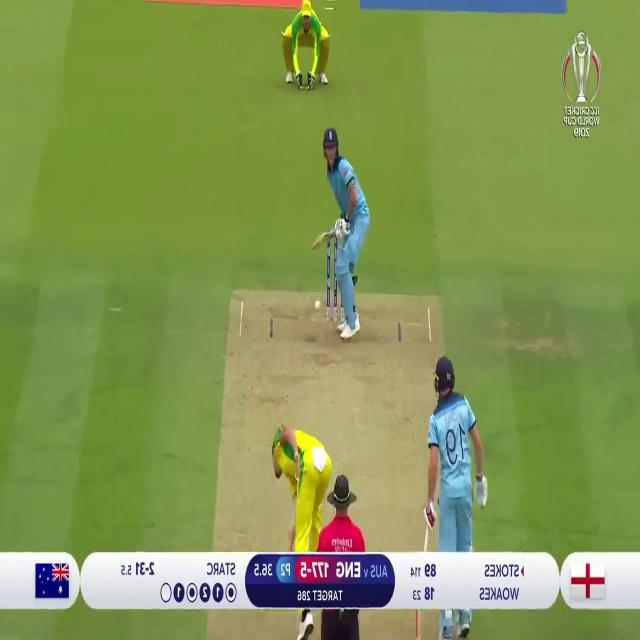ball: (312, 296, 322, 312)
